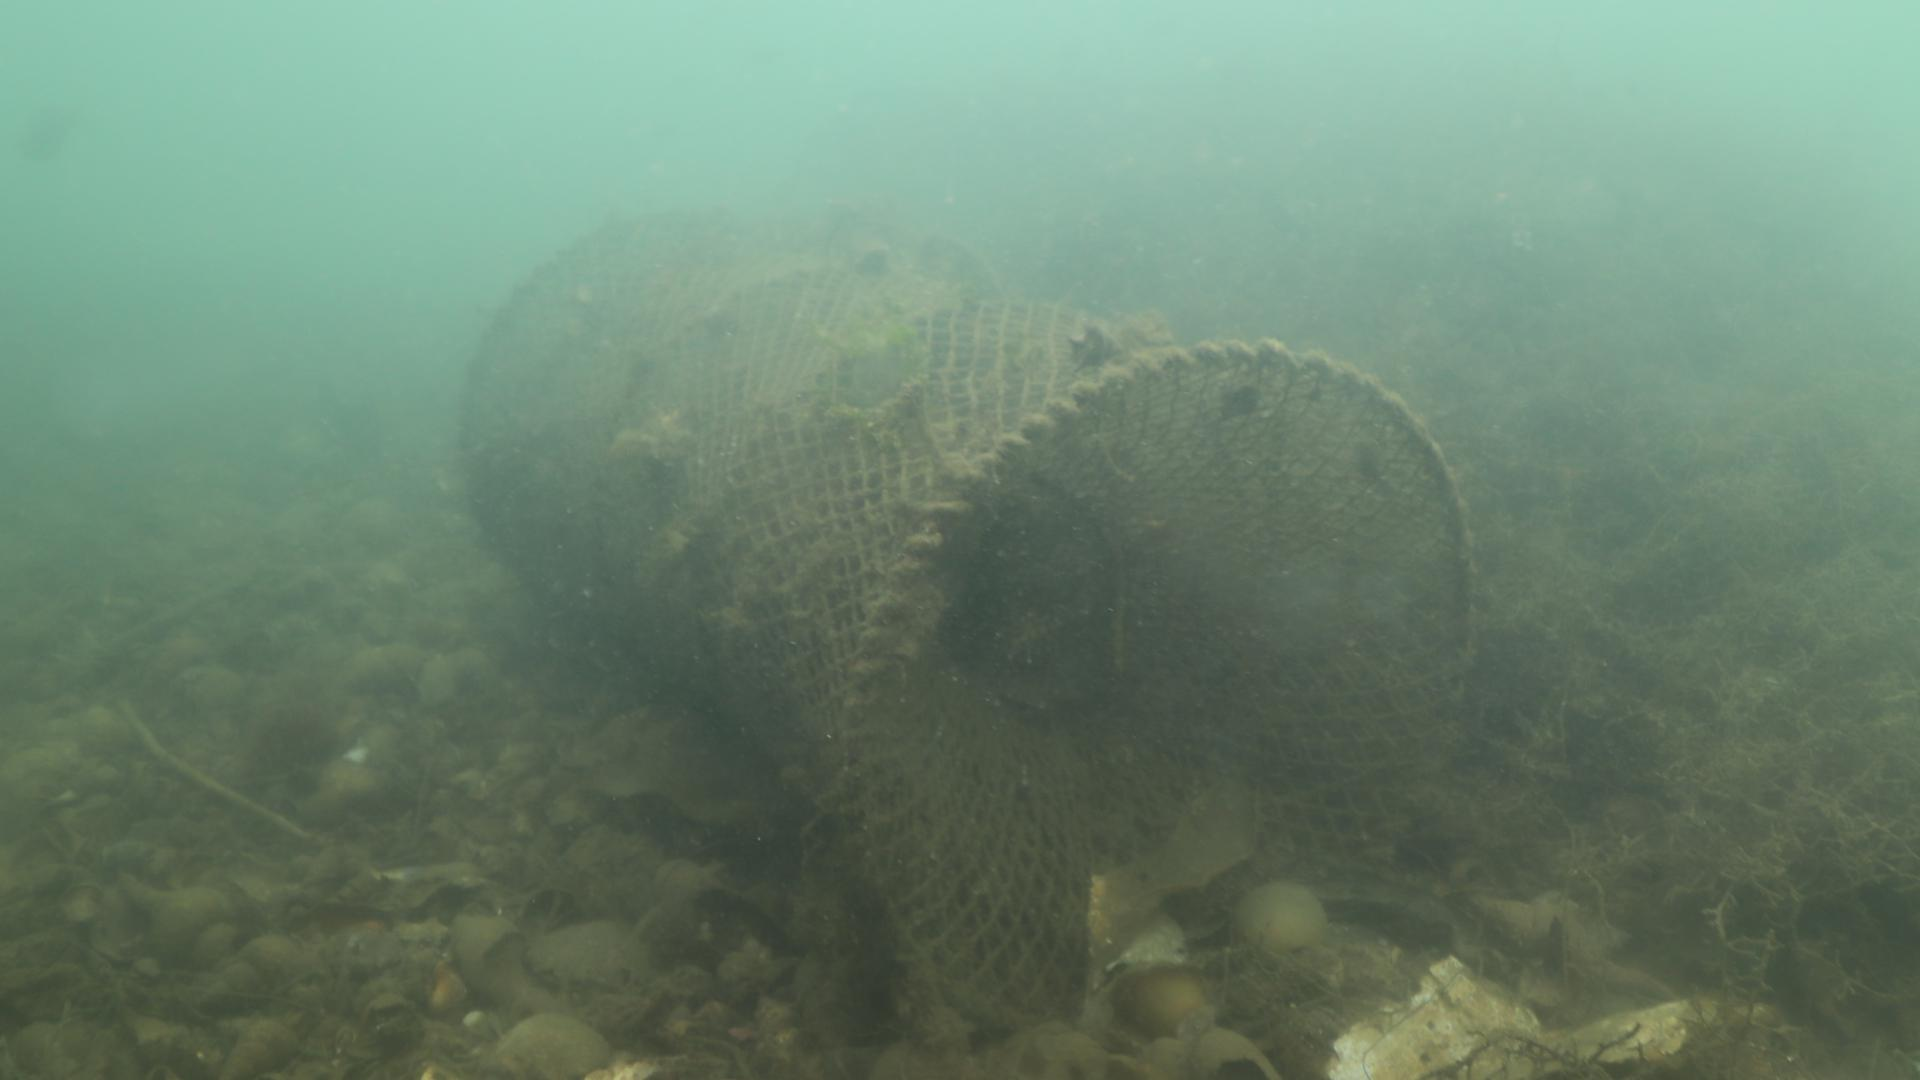spring fish trap: (458, 200, 1478, 1043)
